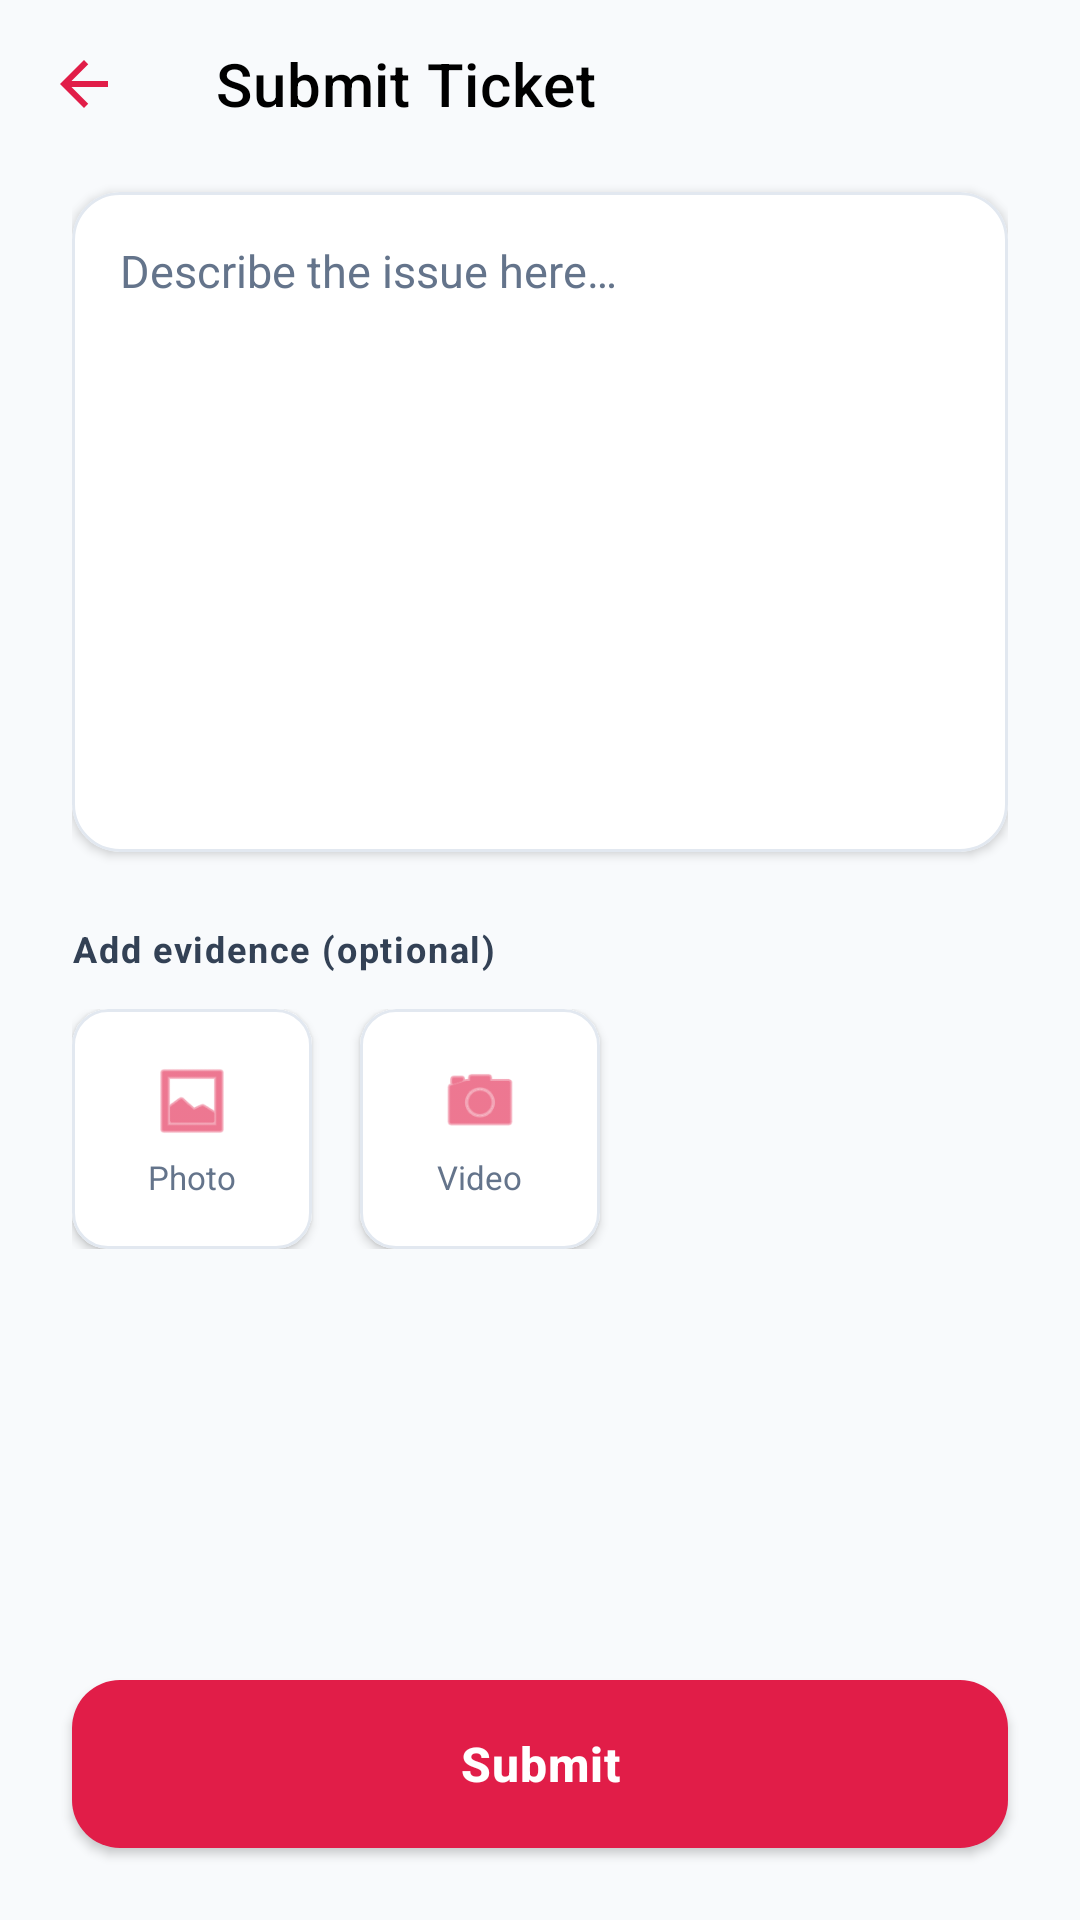

Icons on this 1080x1920 Android screen, each with the point to tap as (x=x, y=y):
camera: (x=480, y=1100)
gallery: (x=192, y=1101)
